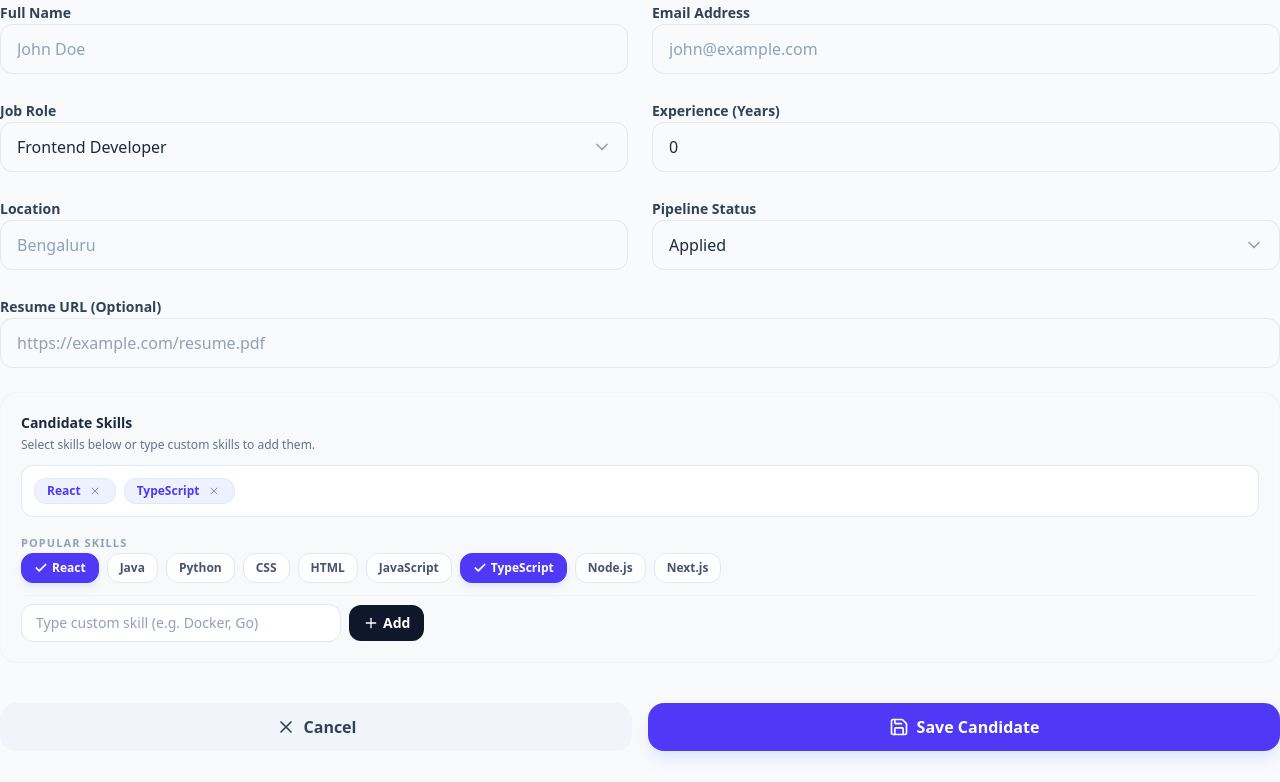
CandidateForm Component › displays error message when mocked createCandidate server action fails
The image size is (1280, 782).
Step 1. Type "Jane Doe" into the field with placeholder "John Doe" → (314, 49), box [0,24,628,74]
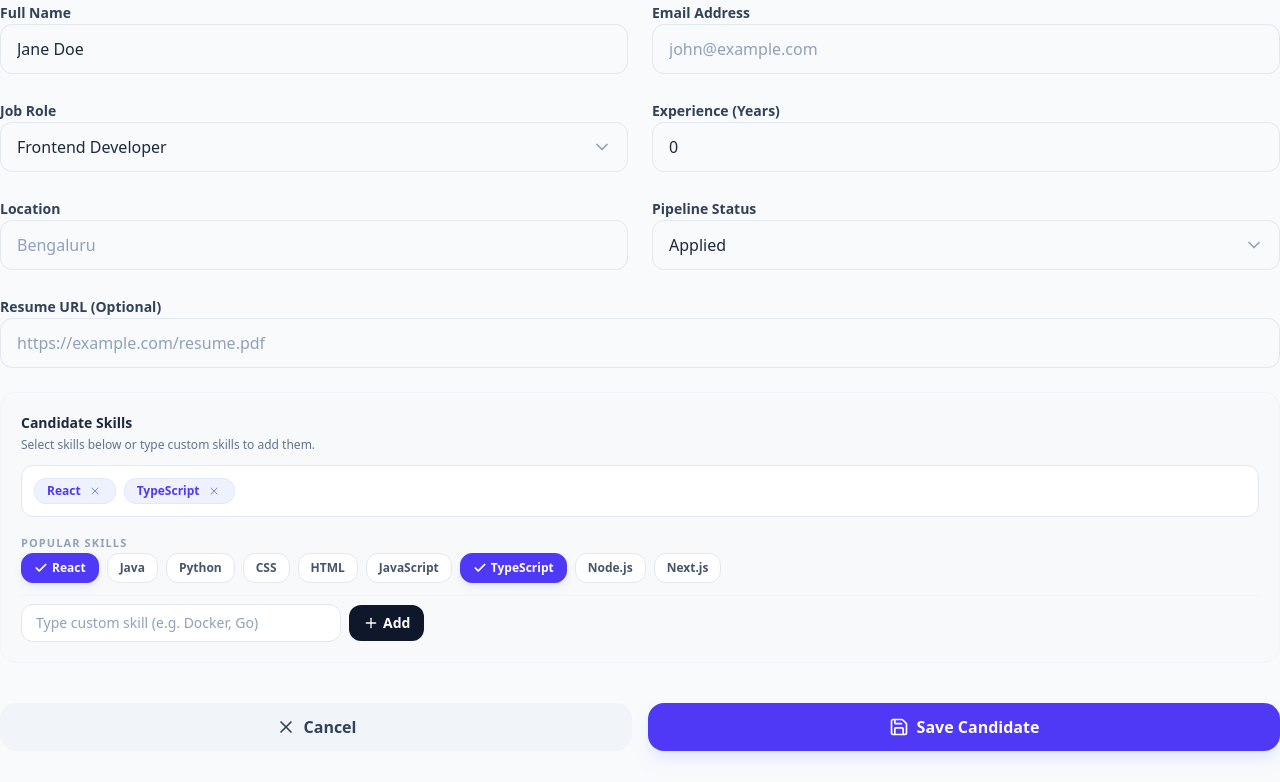
Step 2. Type "jane@example.com" into the field with placeholder "john@example.com" → (966, 49), box [652,24,1279,74]
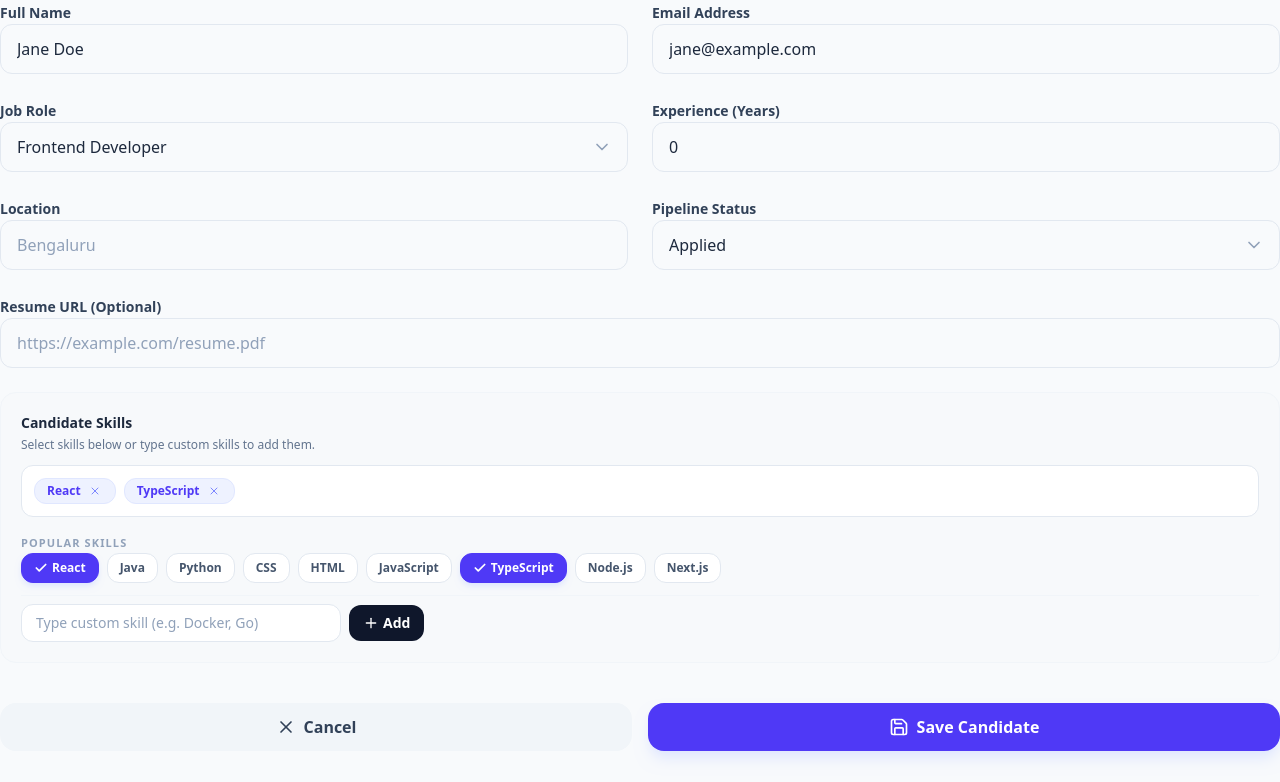
Step 3. Select "Backend Developer" in the dropdown below "Job Role" → (314, 147), box [0,122,628,172]
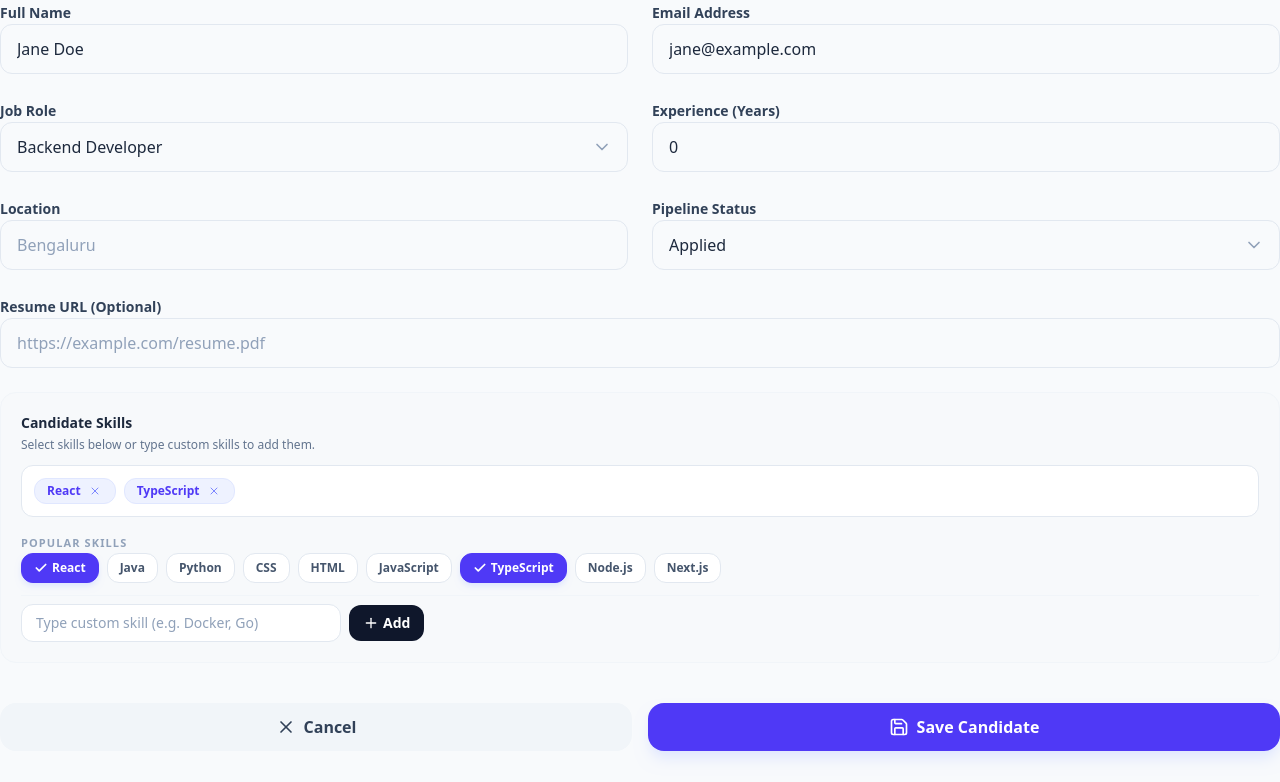
Step 4. Replace the text in the number field named "experience" with "5" → (966, 147), box [652,122,1279,172]
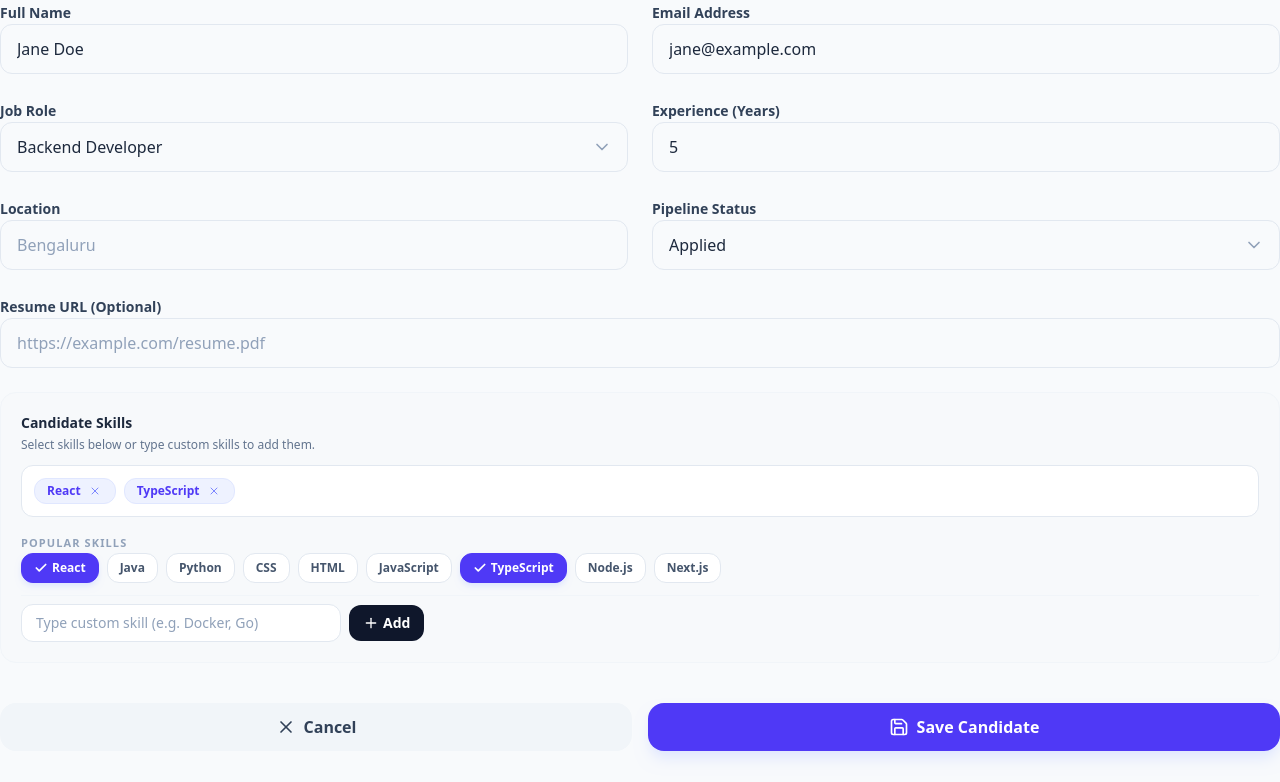
Step 5. Type "Los Angeles" into the field named "location" → (314, 245), box [0,220,628,270]
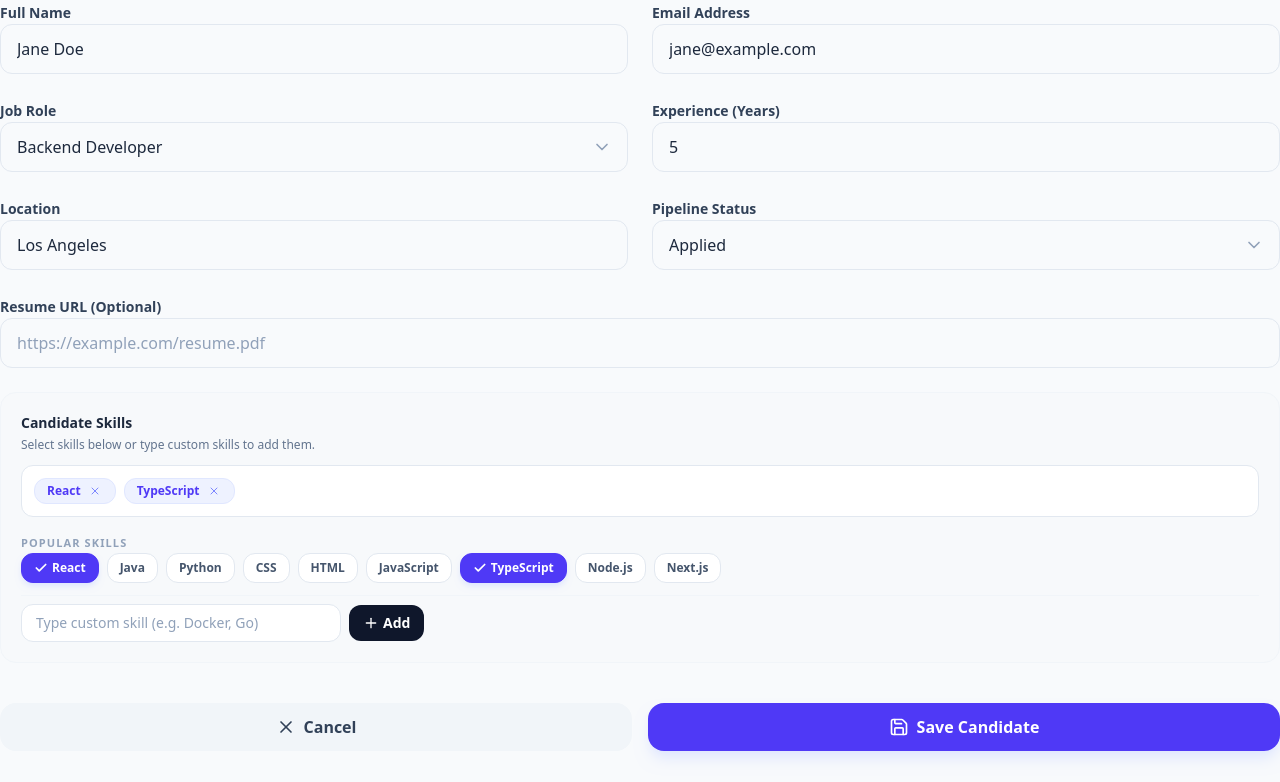
Step 6. Click the button "Save Candidate" → (964, 727), box [648,703,1279,751]
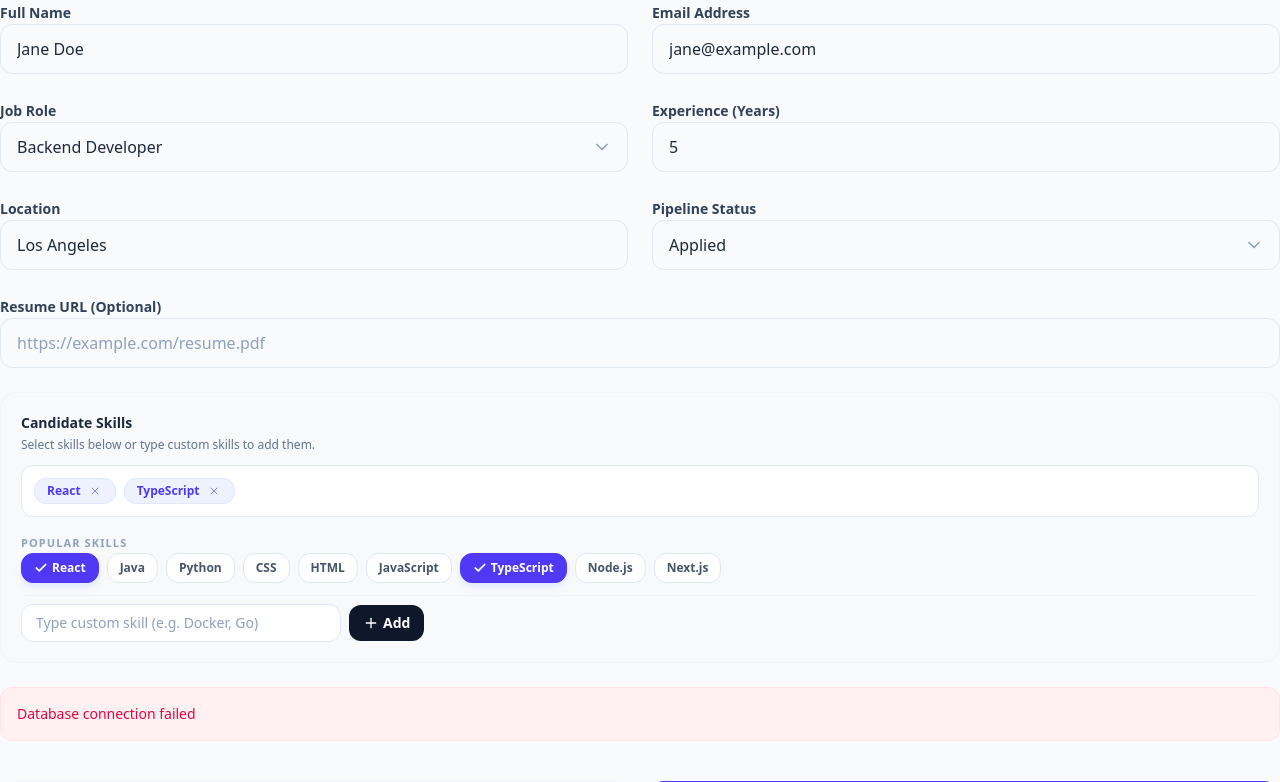
Expected: the text "Database connection failed" is shown, [0,687,1279,741]
